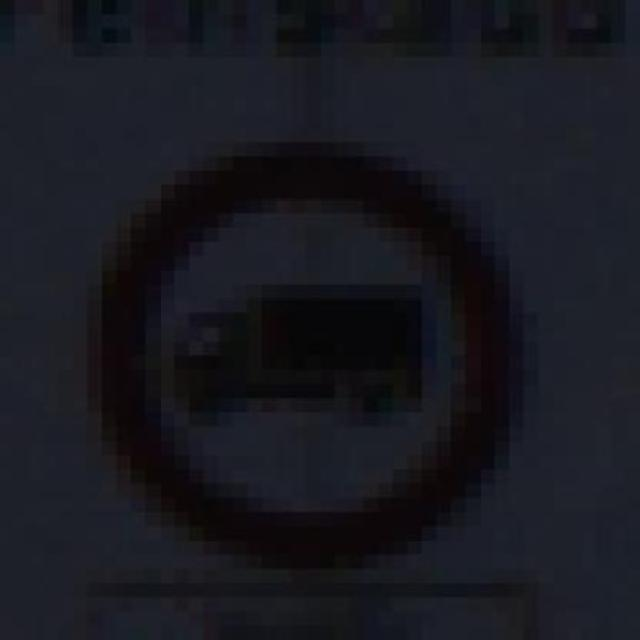Truck traffic is prohibited: (77, 113, 543, 569)
